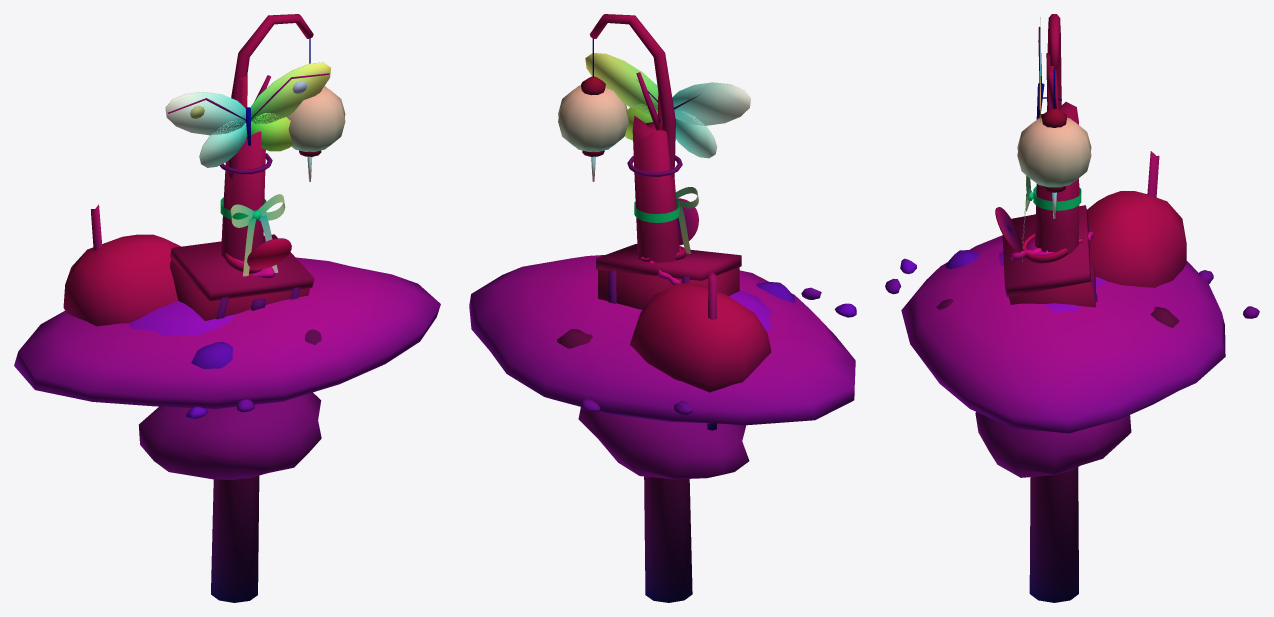
File: keepsakes.glb
3 views of the same model, side by side, from view 1: azimuth 30°, elevation 25°; view 2: azimuth 150°, elevation 25°; view 3: azimuth 270°, elevation 25° (orthographic). The views are drawn at different scales.
Parts seen in each view (by area): view 1: Setting_compass, Setting_ribbon, Setting_shell, Keepsake_wings, Keepsake_lantern, Setting_lantern, Keepsake_ribbon, Setting_wings, Keepsake_compass; view 2: Setting_compass, Setting_ribbon, Setting_shell, Keepsake_wings, Keepsake_lantern, Setting_lantern, Setting_wings, Keepsake_ribbon, Keepsake_compass; view 3: Setting_compass, Setting_ribbon, Setting_shell, Keepsake_lantern, Setting_wings, Keepsake_compass, Setting_lantern, Keepsake_ribbon.
Boxes of the visible parts, box(x1,y1,x2,y2) form: Setting_compass: box(14, 204, 440, 408); Setting_ribbon: box(138, 131, 321, 602); Setting_shell: box(63, 234, 254, 418); Keepsake_wings: box(165, 62, 330, 167); Keepsake_lantern: box(286, 38, 345, 181); Setting_lantern: box(228, 14, 313, 178); Keepsake_ribbon: box(220, 194, 285, 276); Setting_wings: box(191, 75, 321, 368); Keepsake_compass: box(224, 238, 291, 273); Setting_compass: box(469, 244, 855, 430); Setting_ribbon: box(578, 115, 749, 602); Setting_shell: box(581, 282, 856, 415); Keepsake_wings: box(585, 53, 750, 158); Keepsake_lantern: box(558, 38, 628, 181); Setting_lantern: box(589, 14, 675, 178); Setting_wings: box(557, 72, 795, 348); Keepsake_ribbon: box(634, 187, 698, 253); Keepsake_compass: box(636, 198, 698, 260); Setting_compass: box(901, 151, 1225, 433); Setting_ribbon: box(975, 102, 1131, 602); Setting_shell: box(885, 191, 1259, 318); Keepsake_lantern: box(1017, 68, 1091, 218); Setting_wings: box(936, 53, 1179, 327); Keepsake_compass: box(995, 207, 1085, 263); Setting_lantern: box(1047, 14, 1061, 111); Keepsake_ribbon: box(1022, 175, 1081, 261).
Size of the model in its own units: 3.16 by 4.46 by 2.54.
